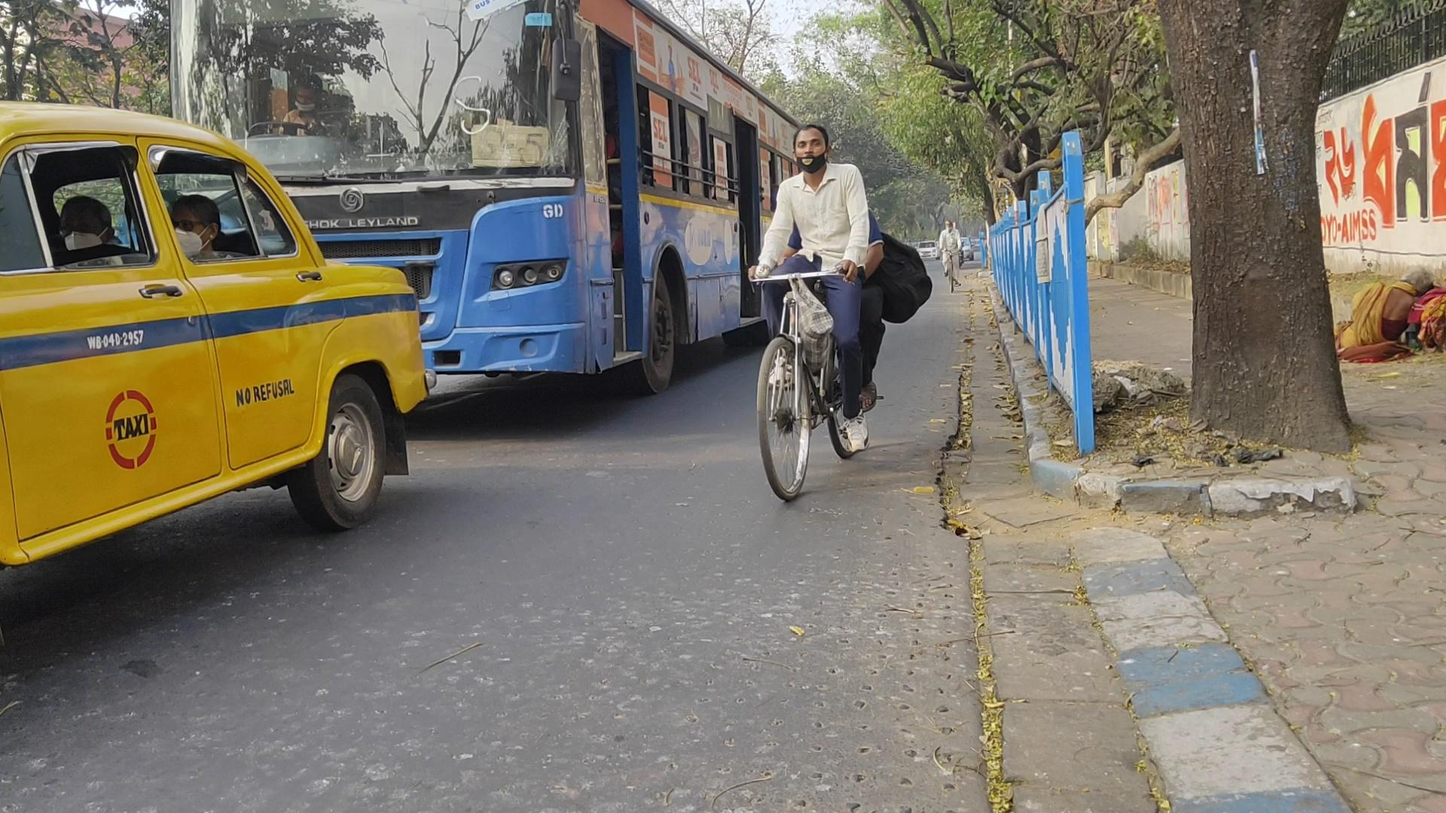bike: (938, 219, 962, 294)
car: (916, 240, 940, 261)
